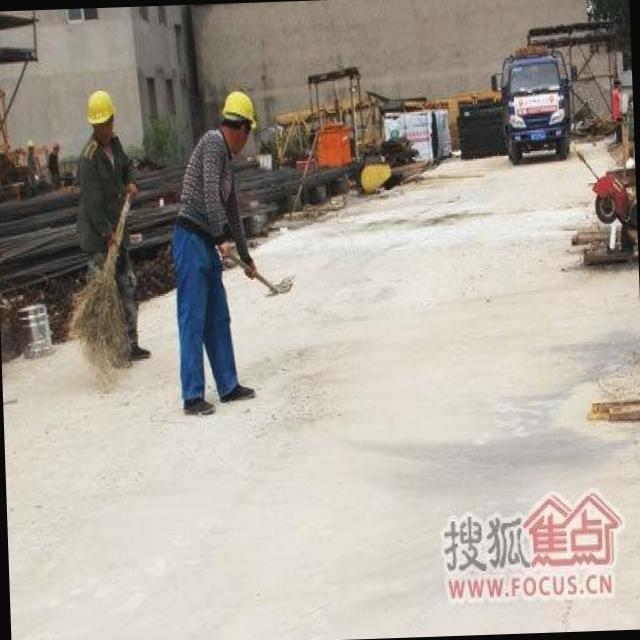helmet: (222, 89, 258, 128), (83, 94, 120, 129)
no-vest: (186, 134, 238, 228), (86, 138, 132, 220)
